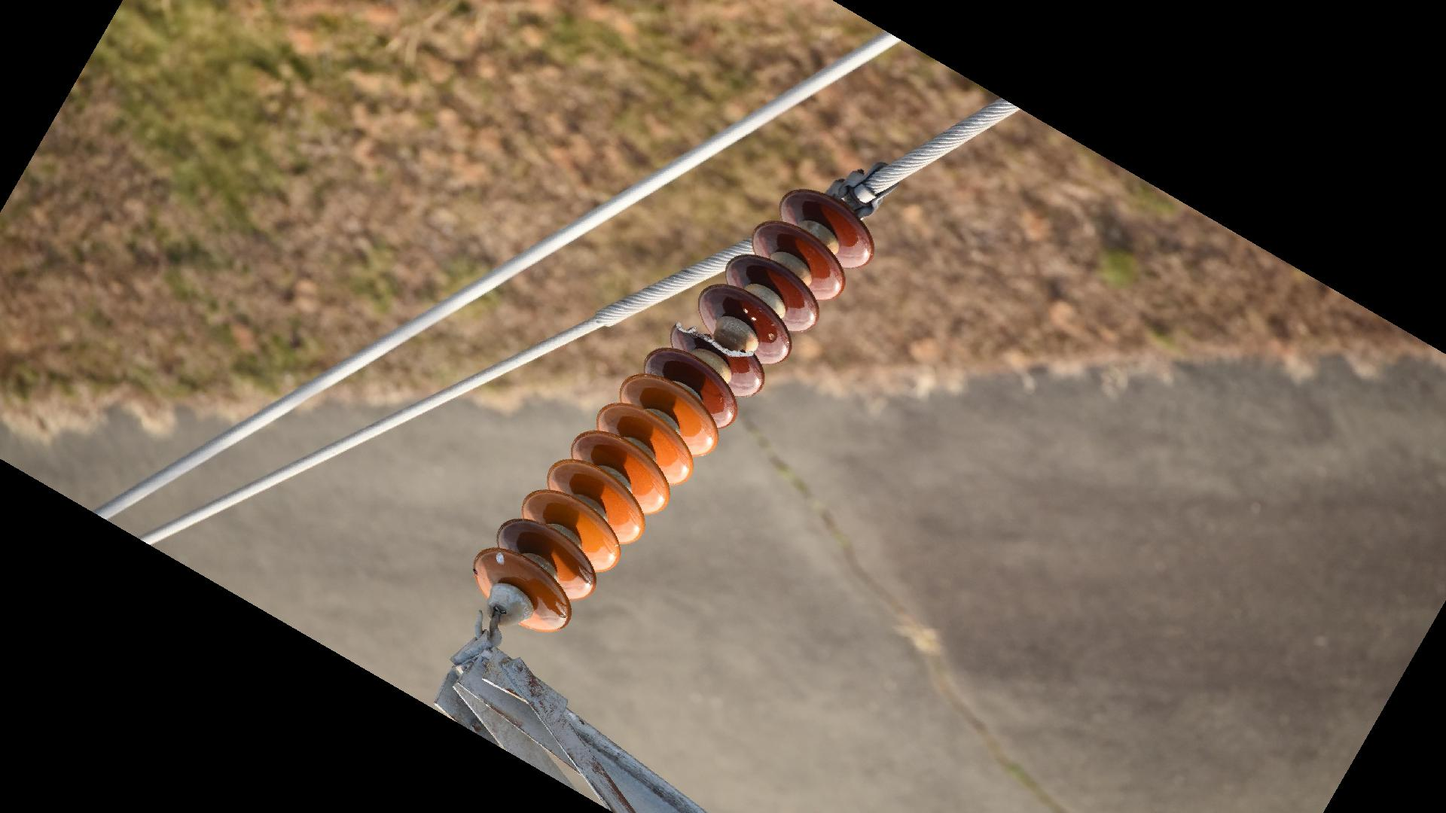insulator: (468, 179, 879, 641)
insulator_breakage: (664, 318, 761, 367)
